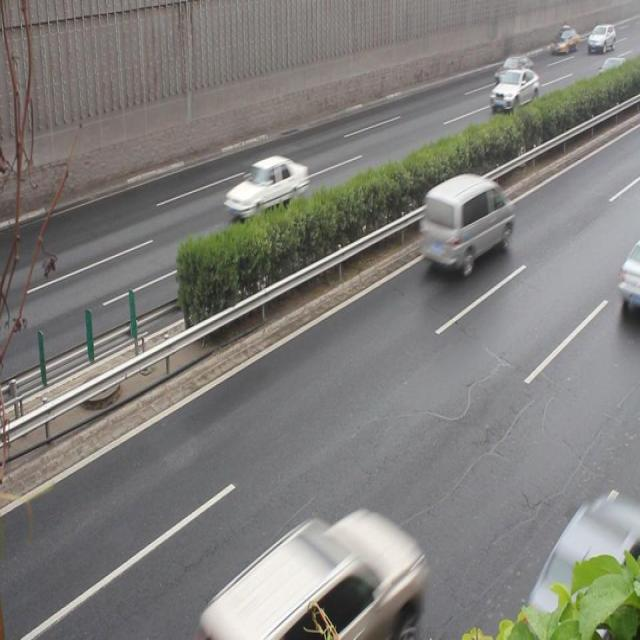car: (200, 506, 423, 640), (224, 155, 308, 221), (486, 69, 538, 110), (616, 236, 640, 304), (494, 54, 534, 87)
truck: (422, 173, 516, 268)
